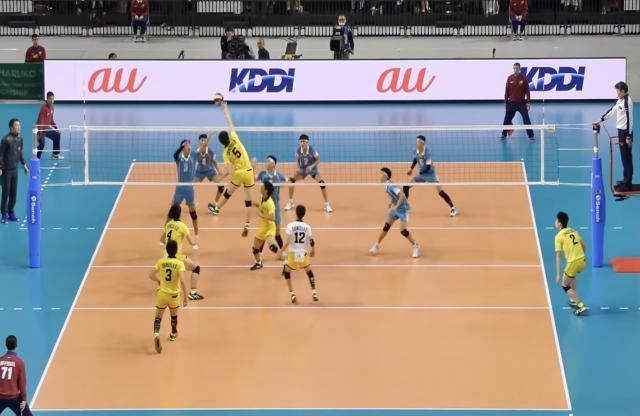spike: (206, 92, 256, 240)
